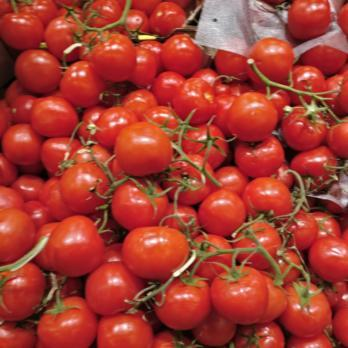Tomato: (2, 2, 348, 348)
